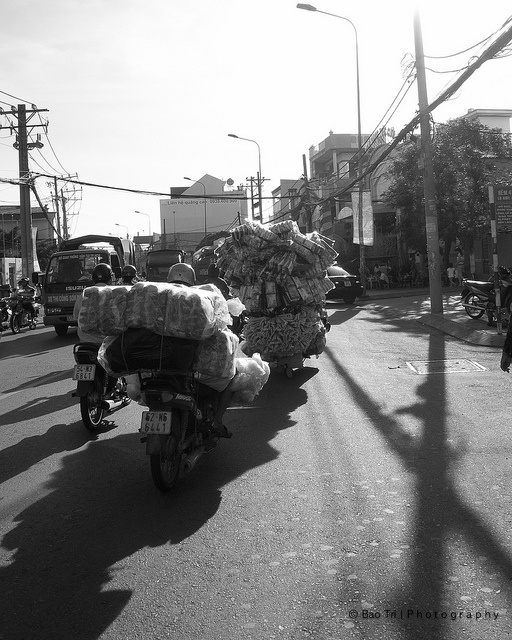non-vehicle: (137, 372, 221, 493), (70, 341, 133, 431), (459, 264, 512, 318), (10, 296, 42, 334)
